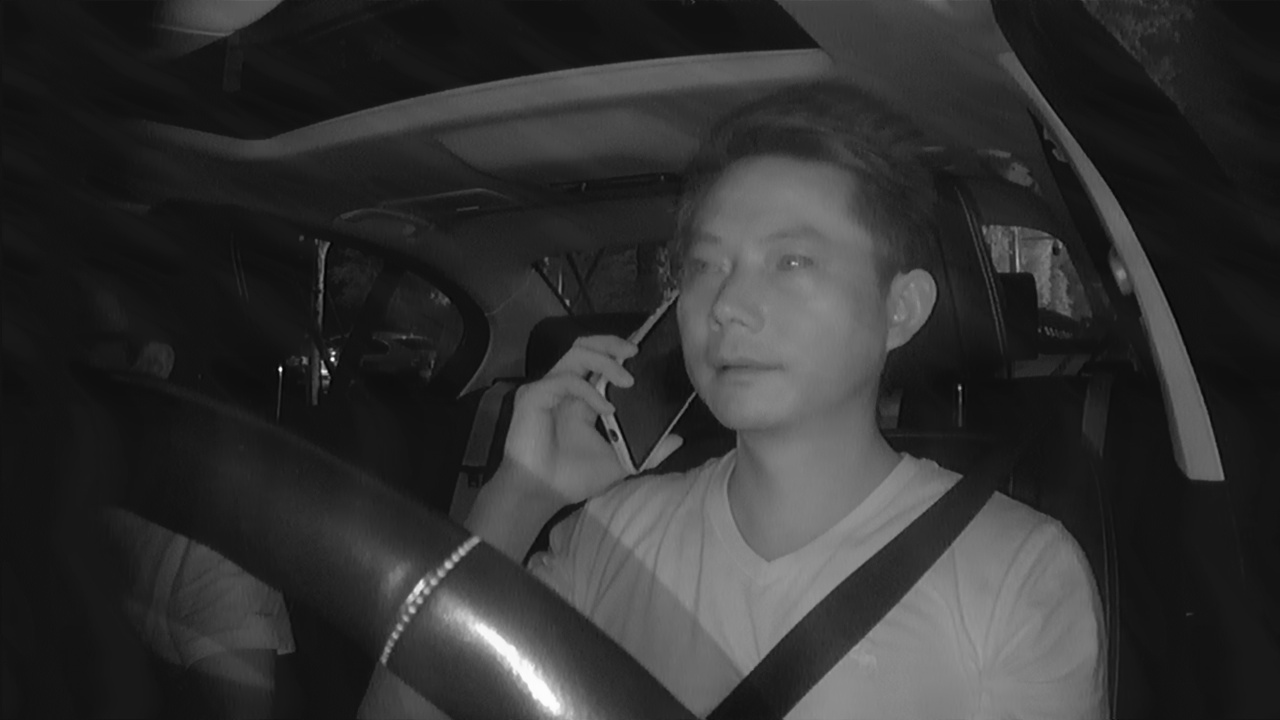hand: (508, 324, 640, 500)
